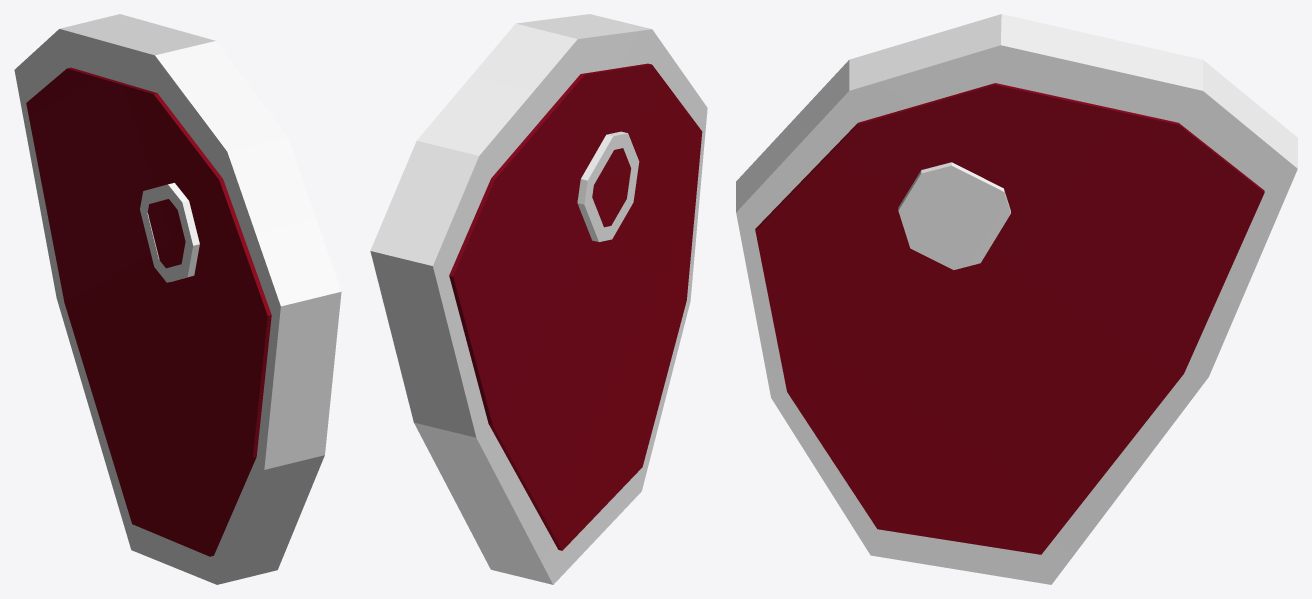
Rendered from SteakRemake.fbx.
3 renders of one model, left to right at view 1: azimuth 30°, elevation 25°; view 2: azimuth 150°, elevation 25°; view 3: azimuth 270°, elevation 25°, orthographic. The views are drawn at different scales.
Parts seen in each view (by area): view 1: Cube.002; view 2: Cube.002; view 3: Cube.002.
Boxes of the visible parts, box(x1,y1,x2,y2) form: Cube.002: box(14, 14, 341, 584); Cube.002: box(370, 14, 707, 584); Cube.002: box(736, 14, 1297, 584).
Bounding box in the file's own units: 42.3 × 252 × 238.
